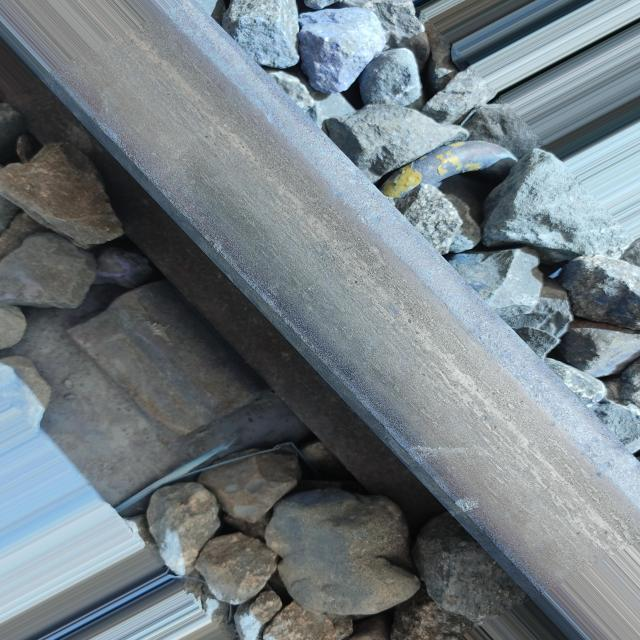Good Fasteners: (399, 141, 517, 187), (380, 172, 400, 197)
Missing Fastener: (31, 266, 256, 468)
